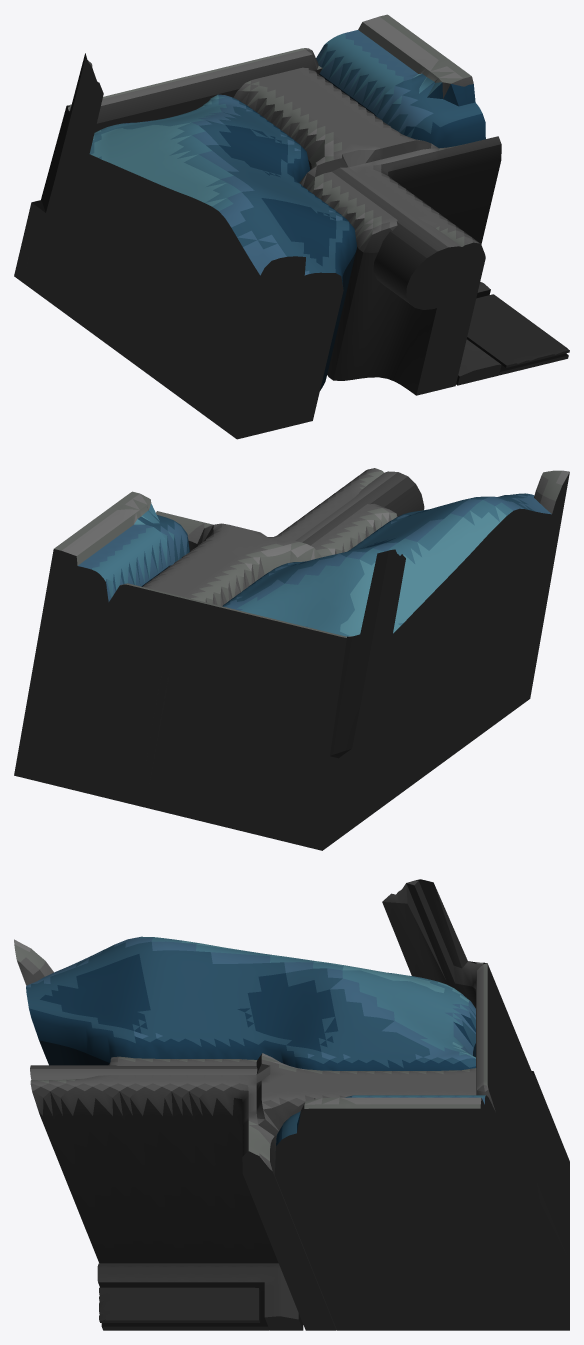
File: fleet_walker_49.glb
3 views of the same model, one above another, from view 1: azimuth 30°, elevation 25°; view 2: azimuth 150°, elevation 25°; view 3: azimuth 270°, elevation 25° (orthographic). The views are drawn at different scales.
Visible parts, largest first — view 1: fleet_walker_49; view 2: fleet_walker_49; view 3: fleet_walker_49.
Boxes of the visible parts, bbox=[...] form: fleet_walker_49: bbox=[14, 14, 569, 439]; fleet_walker_49: bbox=[14, 468, 569, 850]; fleet_walker_49: bbox=[14, 879, 569, 1330].
Size of the model in its own units: 24 by 18.7 by 33.36.
